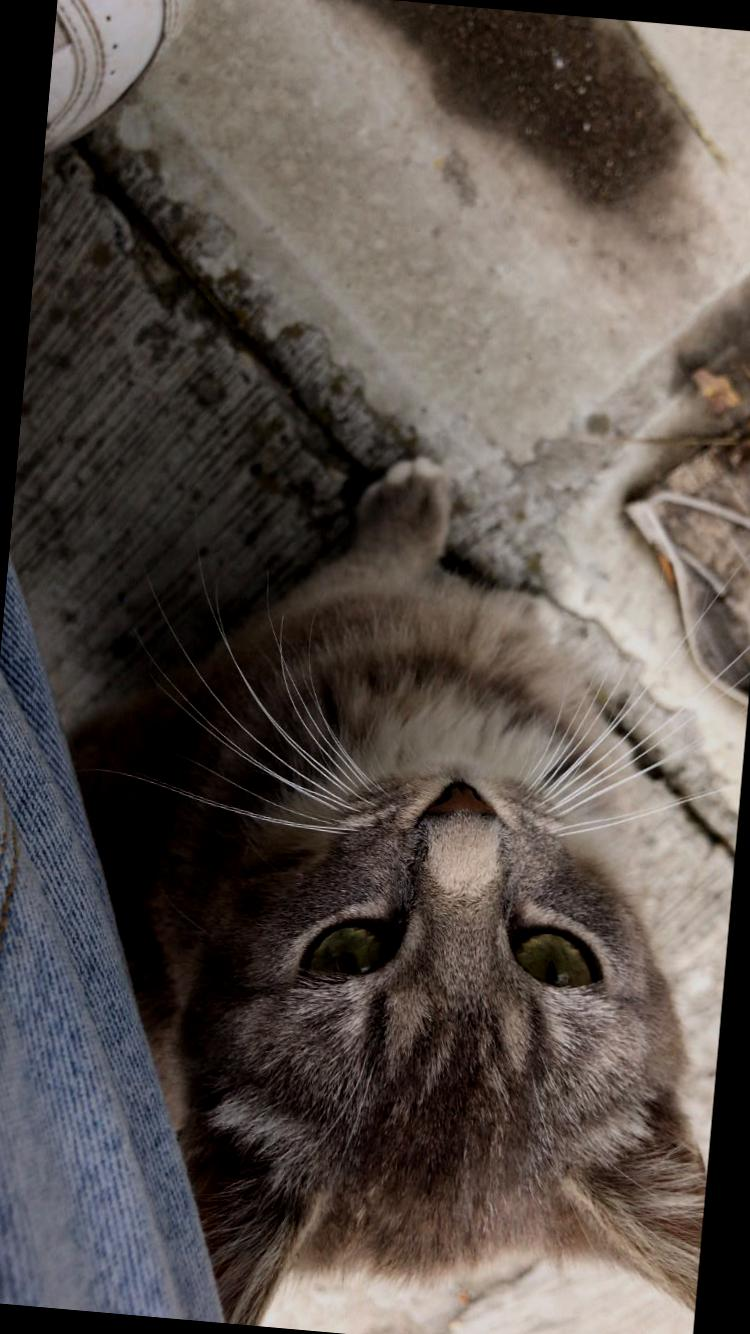macka: (22, 426, 750, 1334)
